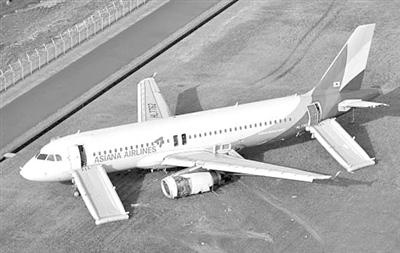airplane: (18, 23, 383, 225)
